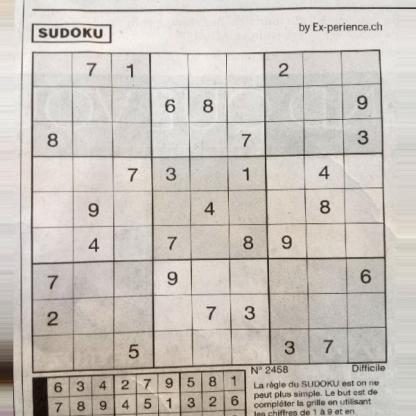sudoku: (28, 46, 390, 376)
